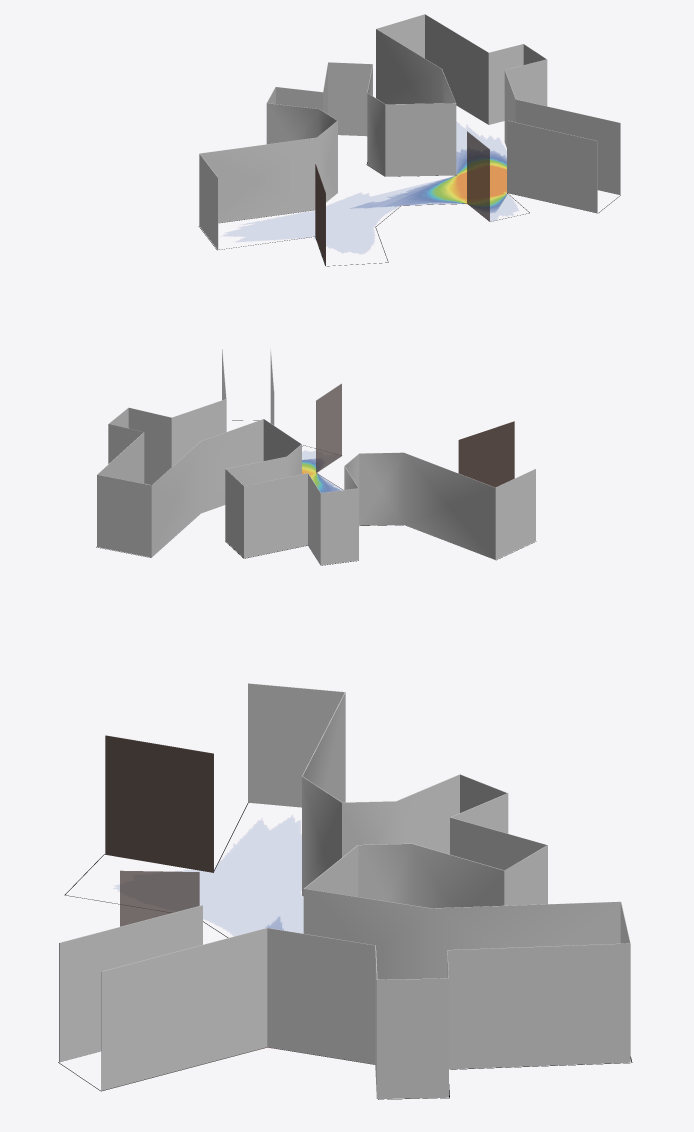
The model's file is House-O2.glb.
3 renders of one model, top to bottom at view 1: azimuth 30°, elevation 25°; view 2: azimuth 150°, elevation 25°; view 3: azimuth 270°, elevation 25°, orthographic. The views are drawn at different scales.
Visible parts, largest first — view 1: Mesh_3, House-O2, Mesh_2, Mesh_0, Mesh_1; view 2: Mesh_3, Mesh_1, Mesh_0, House-O2; view 3: Mesh_3, Mesh_1, Mesh_2, House-O2, Mesh_0, Curve.001.
Boxes of the visible parts, x1,y1,x2,y2 form: Mesh_3: (199,14,620,249); House-O2: (224,123,517,253); Mesh_2: (507,120,597,213); Mesh_0: (467,131,489,221); Mesh_1: (315,164,325,265); Mesh_3: (97,349,535,565); Mesh_1: (458,421,514,487); Mesh_0: (316,383,341,472); House-O2: (302,451,341,492); Mesh_3: (101,683,630,1098); Mesh_1: (105,735,213,872); Mesh_2: (59,905,202,1062); House-O2: (116,817,302,935); Mesh_0: (120,870,199,926); Curve.001: (58,802,632,1099).
Bounding box in the file's own units: 0.3468 × 0.0516 × 0.261.
6 materials, 1 textured.
